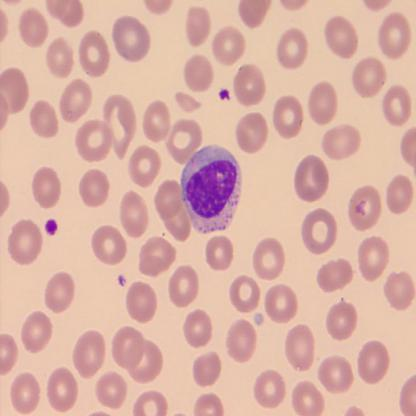Metamyelocyte: (178, 143, 245, 236)
